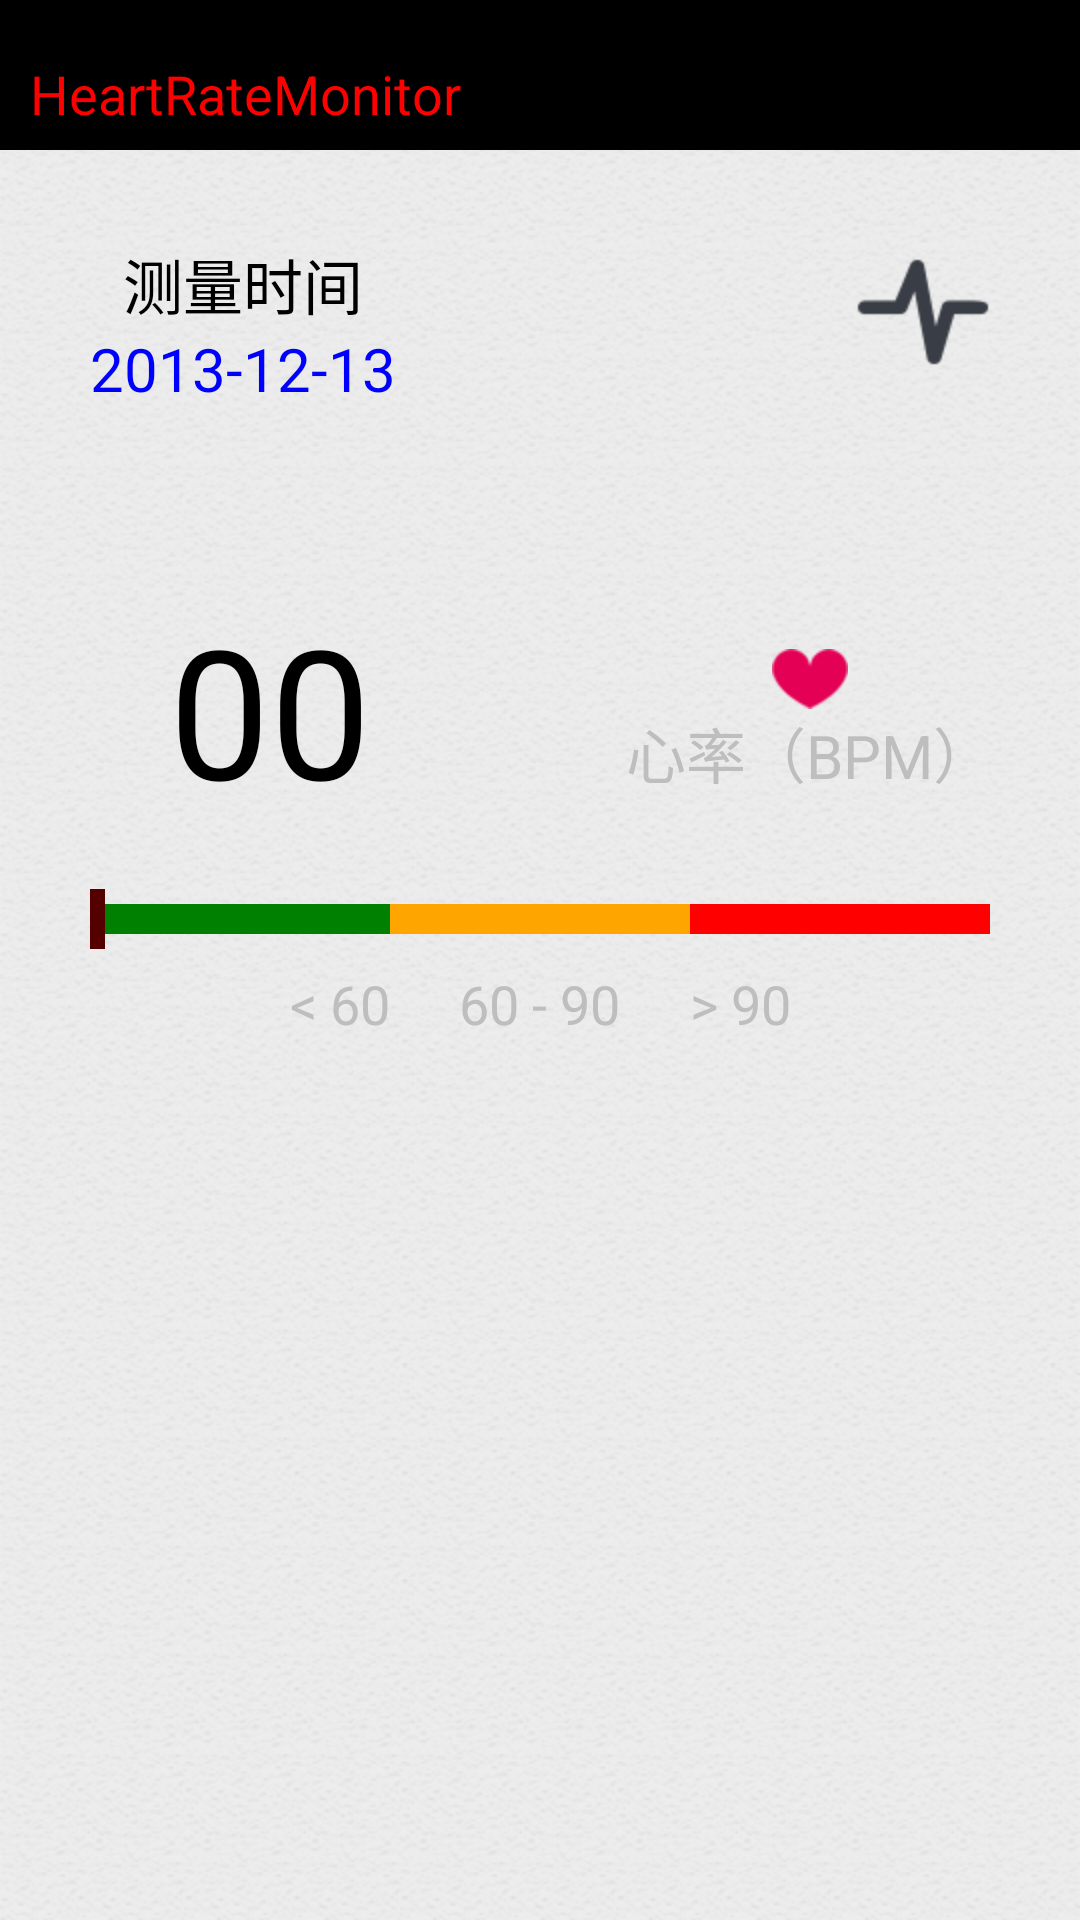

Named icons in this screenshot (1080px x 1920px) and their centers, [x,y]:
heart: [810,679]
